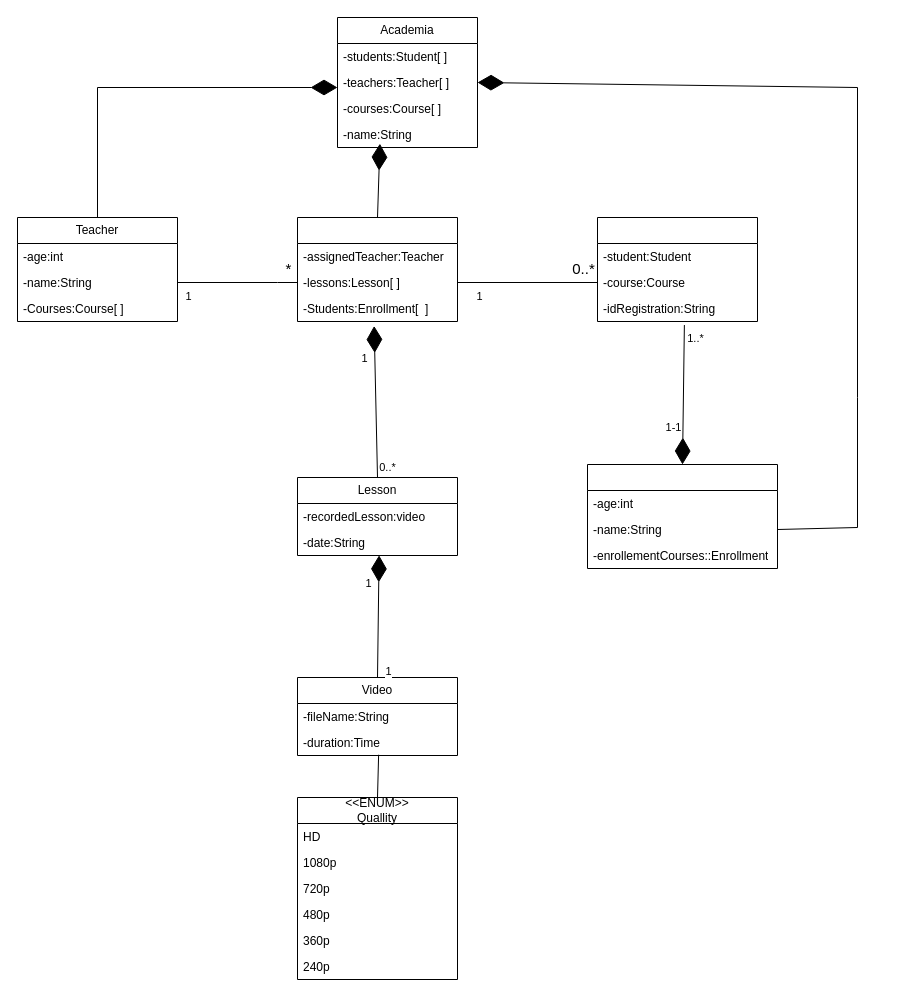
The diagram is 901 pixels wide and 1000 high, and some of its shapes have lost their labels. Each missing label, with the box of its shape:
Course: (296, 216, 458, 322)
enrollment: (596, 216, 758, 322)
Student: (586, 464, 778, 568)
